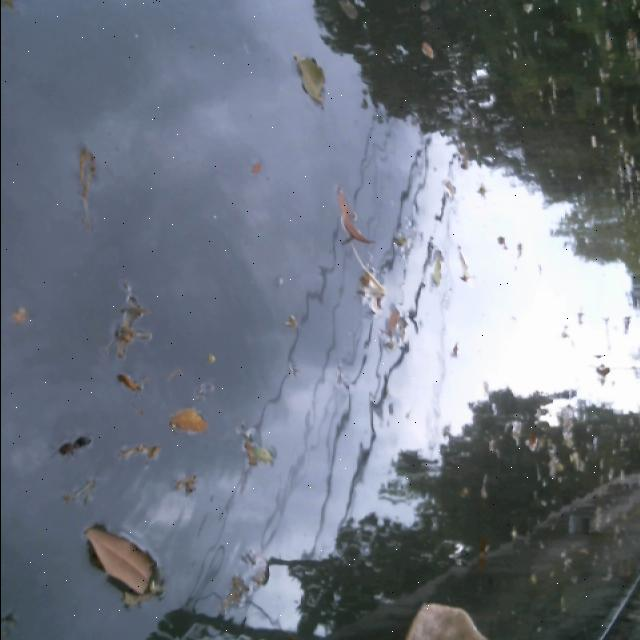Big-leaf: (397, 597, 487, 640)
Small-leaf: (77, 518, 186, 609), (94, 288, 155, 399), (276, 54, 348, 120), (66, 143, 107, 222), (332, 185, 371, 256), (159, 397, 217, 438)
